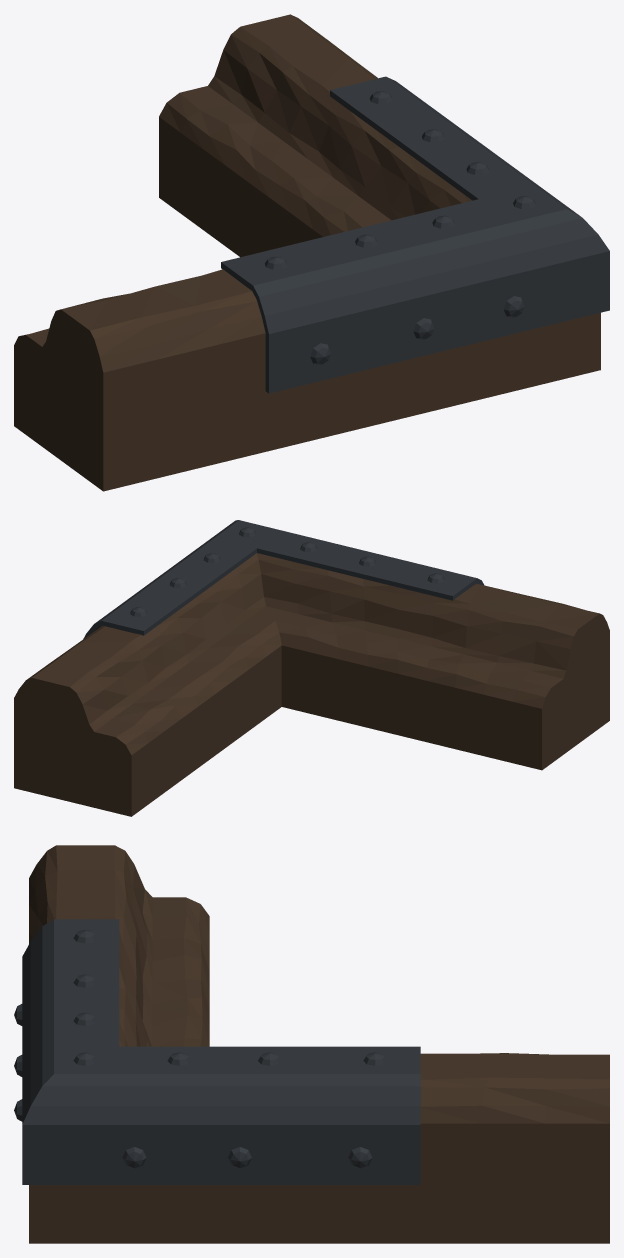
File: SM_MapFrame002_Corner.fbx
3 views of the same model, one above another, from view 1: azimuth 30°, elevation 25°; view 2: azimuth 150°, elevation 25°; view 3: azimuth 270°, elevation 25° (orthographic). The views are drawn at different scales.
Visible parts, largest first — view 1: SM_MapFrame002_Corner; view 2: SM_MapFrame002_Corner; view 3: SM_MapFrame002_Corner.
Part boxes in pixels (<box>): SM_MapFrame002_Corner: <box>14,14,609,491</box>; SM_MapFrame002_Corner: <box>14,520,609,816</box>; SM_MapFrame002_Corner: <box>14,845,609,1243</box>.
Bounding box in the file's own units: 79.17 × 79.17 × 24.4.
